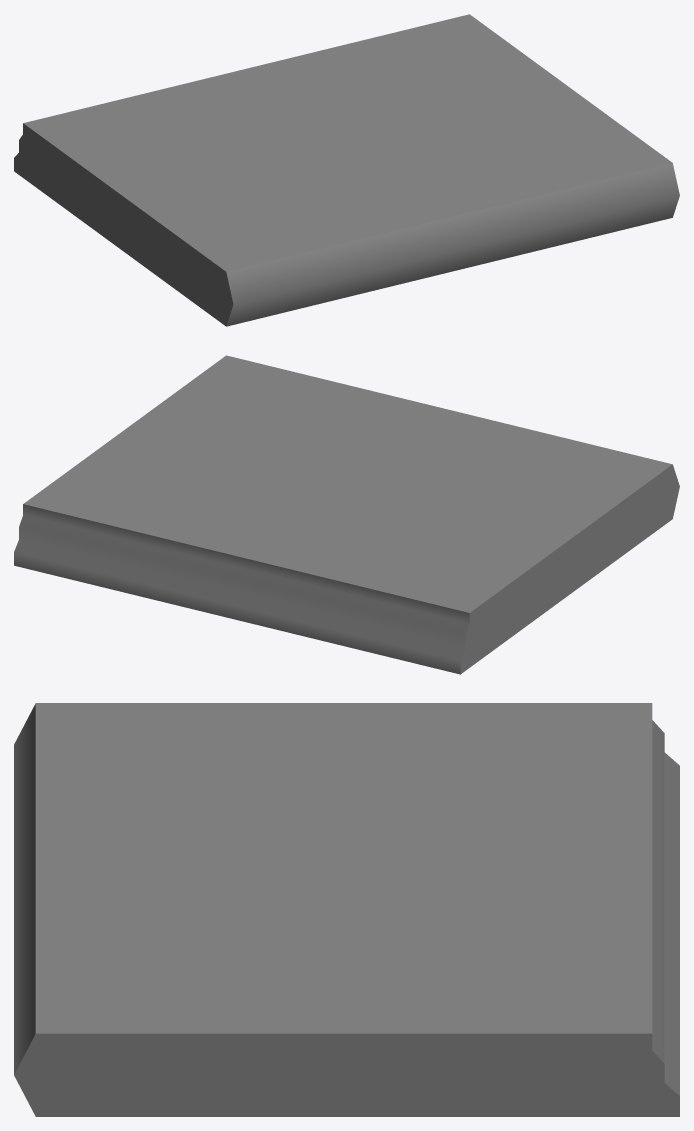
The model's file is SM_Prop_Newspaper_01.obj.
3 renders of one model, top to bottom at view 1: azimuth 30°, elevation 25°; view 2: azimuth 150°, elevation 25°; view 3: azimuth 270°, elevation 25°, orthographic. The views are drawn at different scales.
Visible parts, largest first — view 1: SM_Prop_Newspaper_01_Mat_PolygonCity_Texture_01_A; view 2: SM_Prop_Newspaper_01_Mat_PolygonCity_Texture_01_A; view 3: SM_Prop_Newspaper_01_Mat_PolygonCity_Texture_01_A.
Boxes of the visible parts, x1,y1,x2,y2 form: SM_Prop_Newspaper_01_Mat_PolygonCity_Texture_01_A: (14,14,679,326); SM_Prop_Newspaper_01_Mat_PolygonCity_Texture_01_A: (14,355,679,674); SM_Prop_Newspaper_01_Mat_PolygonCity_Texture_01_A: (14,703,679,1116).
Size of the model in its own units: 0.4566 by 0.0536 by 0.3887.
1 material, 1 textured.
